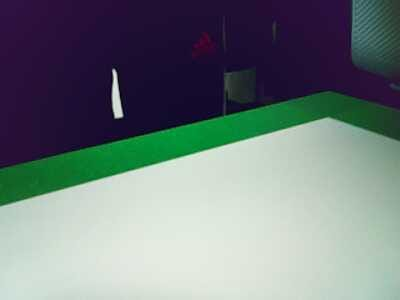linea_cerca: (1, 90, 400, 207)
